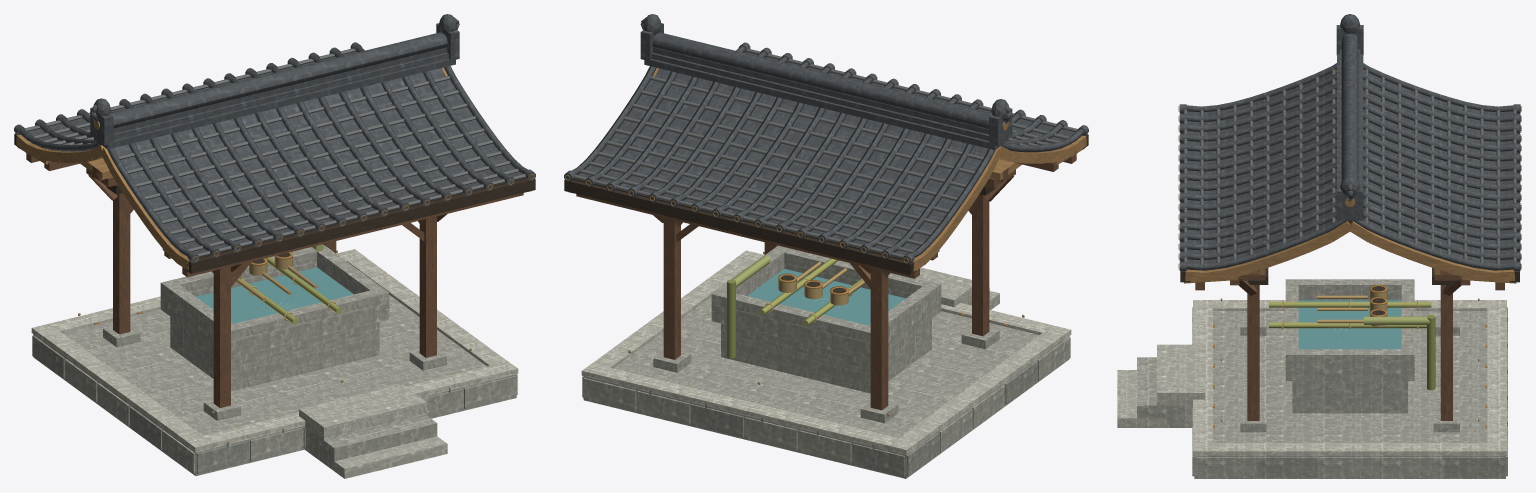
File: shrine_temizu-exterior-refined-v1.glb
3 views of the same model, side by side, from view 1: azimuth 30°, elevation 25°; view 2: azimuth 150°, elevation 25°; view 3: azimuth 270°, elevation 25° (orthographic). The views are drawn at different scales.
Visible parts, largest first — view 1: shrine_temizu_01_原有建筑轮廓与构件_EX_a4a49a_dark_rock_surface, shrine_temizu_01_原有建筑轮廓与构件_EX_50565a_dark_rock_surface, shrine_temizu_02_屋顶瓦作_EX_50565a_dark_rock_surface, shrine_temizu_01_原有建筑轮廓与构件_EX_6d7070_plain_surface, shrine_temizu_01_原有建筑轮廓与构件_EX_bebdaf_dark_rock_surface, shrine_temizu_01_原有建筑轮廓与构件_EX_71533d_fine_grained_wood_surfa, shrine_temizu_01_原有建筑轮廓与构件_EX_b5b5a9_dark_rock_surface, shrine_temizu_01_原有建筑轮廓与构件_EX_41362b_fine_grained_wood_surfa, shrine_temizu_01_原有建筑轮廓与构件_EX_699ea0_plain_surface, shrine_temizu_01_原有建筑轮廓与构件_EX_a17c51_fine_grained_wood_surfa, shrine_temizu_01_原有建筑轮廓与构件_EX_92968b_dark_rock_surface, shrine_temizu_01_原有建筑轮廓与构件_EX_a7aa63_plain_surface (+2 smaller); view 2: shrine_temizu_01_原有建筑轮廓与构件_EX_a4a49a_dark_rock_surface, shrine_temizu_01_原有建筑轮廓与构件_EX_50565a_dark_rock_surface, shrine_temizu_02_屋顶瓦作_EX_50565a_dark_rock_surface, shrine_temizu_01_原有建筑轮廓与构件_EX_6d7070_plain_surface, shrine_temizu_01_原有建筑轮廓与构件_EX_bebdaf_dark_rock_surface, shrine_temizu_01_原有建筑轮廓与构件_EX_71533d_fine_grained_wood_surfa, shrine_temizu_01_原有建筑轮廓与构件_EX_41362b_fine_grained_wood_surfa, shrine_temizu_01_原有建筑轮廓与构件_EX_92968b_dark_rock_surface, shrine_temizu_01_原有建筑轮廓与构件_EX_a17c51_fine_grained_wood_surfa, shrine_temizu_01_原有建筑轮廓与构件_EX_699ea0_plain_surface, shrine_temizu_01_原有建筑轮廓与构件_EX_b5b5a9_dark_rock_surface, shrine_temizu_01_原有建筑轮廓与构件_EX_b39967_plain_surface (+3 smaller); view 3: shrine_temizu_01_原有建筑轮廓与构件_EX_50565a_dark_rock_surface, shrine_temizu_01_原有建筑轮廓与构件_EX_a4a49a_dark_rock_surface, shrine_temizu_02_屋顶瓦作_EX_50565a_dark_rock_surface, shrine_temizu_01_原有建筑轮廓与构件_EX_bebdaf_dark_rock_surface, shrine_temizu_01_原有建筑轮廓与构件_EX_6d7070_plain_surface, shrine_temizu_01_原有建筑轮廓与构件_EX_b5b5a9_dark_rock_surface, shrine_temizu_01_原有建筑轮廓与构件_EX_a17c51_fine_grained_wood_surfa, shrine_temizu_01_原有建筑轮廓与构件_EX_71533d_fine_grained_wood_surfa, shrine_temizu_01_原有建筑轮廓与构件_EX_699ea0_plain_surface, shrine_temizu_01_原有建筑轮廓与构件_EX_92968b_dark_rock_surface, shrine_temizu_01_原有建筑轮廓与构件_EX_a7aa63_plain_surface, shrine_temizu_01_原有建筑轮廓与构件_EX_41362b_fine_grained_wood_surfa (+4 smaller).
Boxes of the visible parts, x1=… form: shrine_temizu_01_原有建筑轮廓与构件_EX_a4a49a_dark_rock_surface: x1=33, y1=244, x2=517, y2=475; shrine_temizu_01_原有建筑轮廓与构件_EX_50565a_dark_rock_surface: x1=14, y1=23, x2=535, y2=262; shrine_temizu_02_屋顶瓦作_EX_50565a_dark_rock_surface: x1=28, y1=51, x2=522, y2=253; shrine_temizu_01_原有建筑轮廓与构件_EX_6d7070_plain_surface: x1=25, y1=48, x2=525, y2=257; shrine_temizu_01_原有建筑轮廓与构件_EX_bebdaf_dark_rock_surface: x1=31, y1=249, x2=518, y2=452; shrine_temizu_01_原有建筑轮廓与构件_EX_71533d_fine_grained_wood_surfa: x1=26, y1=153, x2=523, y2=407; shrine_temizu_01_原有建筑轮廓与构件_EX_b5b5a9_dark_rock_surface: x1=299, y1=384, x2=447, y2=478; shrine_temizu_01_原有建筑轮廓与构件_EX_41362b_fine_grained_wood_surfa: x1=14, y1=133, x2=535, y2=273; shrine_temizu_01_原有建筑轮廓与构件_EX_699ea0_plain_surface: x1=196, y1=267, x2=353, y2=323; shrine_temizu_01_原有建筑轮廓与构件_EX_a17c51_fine_grained_wood_surfa: x1=16, y1=67, x2=531, y2=273; shrine_temizu_01_原有建筑轮廓与构件_EX_92968b_dark_rock_surface: x1=32, y1=335, x2=249, y2=474; shrine_temizu_01_原有建筑轮廓与构件_EX_a7aa63_plain_surface: x1=236, y1=257, x2=341, y2=324; shrine_temizu_01_原有建筑轮廓与构件_EX_a4a49a_dark_rock_surface: x1=583, y1=245, x2=1070, y2=478; shrine_temizu_01_原有建筑轮廓与构件_EX_50565a_dark_rock_surface: x1=564, y1=23, x2=1088, y2=264; shrine_temizu_02_屋顶瓦作_EX_50565a_dark_rock_surface: x1=577, y1=52, x2=1074, y2=254; shrine_temizu_01_原有建筑轮廓与构件_EX_6d7070_plain_surface: x1=574, y1=48, x2=1077, y2=258; shrine_temizu_01_原有建筑轮廓与构件_EX_bebdaf_dark_rock_surface: x1=581, y1=250, x2=1071, y2=454; shrine_temizu_01_原有建筑轮廓与构件_EX_71533d_fine_grained_wood_surfa: x1=576, y1=154, x2=1076, y2=410; shrine_temizu_01_原有建筑轮廓与构件_EX_41362b_fine_grained_wood_surfa: x1=564, y1=134, x2=1088, y2=293; shrine_temizu_01_原有建筑轮廓与构件_EX_92968b_dark_rock_surface: x1=582, y1=336, x2=1069, y2=476; shrine_temizu_01_原有建筑轮廓与构件_EX_a17c51_fine_grained_wood_surfa: x1=568, y1=68, x2=1086, y2=275; shrine_temizu_01_原有建筑轮廓与构件_EX_699ea0_plain_surface: x1=747, y1=268, x2=905, y2=325; shrine_temizu_01_原有建筑轮廓与构件_EX_b5b5a9_dark_rock_surface: x1=916, y1=267, x2=999, y2=309; shrine_temizu_01_原有建筑轮廓与构件_EX_b39967_plain_surface: x1=778, y1=261, x2=865, y2=305; shrine_temizu_01_原有建筑轮廓与构件_EX_50565a_dark_rock_surface: x1=1179, y1=25, x2=1520, y2=270; shrine_temizu_01_原有建筑轮廓与构件_EX_a4a49a_dark_rock_surface: x1=1137, y1=279, x2=1507, y2=478; shrine_temizu_02_屋顶瓦作_EX_50565a_dark_rock_surface: x1=1187, y1=71, x2=1512, y2=263; shrine_temizu_01_原有建筑轮廓与构件_EX_bebdaf_dark_rock_surface: x1=1193, y1=300, x2=1506, y2=455; shrine_temizu_01_原有建筑轮廓与构件_EX_6d7070_plain_surface: x1=1183, y1=69, x2=1516, y2=264; shrine_temizu_01_原有建筑轮廓与构件_EX_b5b5a9_dark_rock_surface: x1=1117, y1=344, x2=1205, y2=427; shrine_temizu_01_原有建筑轮廓与构件_EX_a17c51_fine_grained_wood_surfa: x1=1184, y1=70, x2=1516, y2=283; shrine_temizu_01_原有建筑轮廓与构件_EX_71533d_fine_grained_wood_surfa: x1=1195, y1=268, x2=1504, y2=420; shrine_temizu_01_原有建筑轮廓与构件_EX_699ea0_plain_surface: x1=1298, y1=300, x2=1401, y2=349; shrine_temizu_01_原有建筑轮廓与构件_EX_92968b_dark_rock_surface: x1=1192, y1=307, x2=1507, y2=477; shrine_temizu_01_原有建筑轮廓与构件_EX_a7aa63_plain_surface: x1=1269, y1=302, x2=1431, y2=328; shrine_temizu_01_原有建筑轮廓与构件_EX_41362b_fine_grained_wood_surfa: x1=1180, y1=113, x2=1519, y2=315.
Size of the model in its own units: 9.3 by 7.75 by 9.2.
Materials: 19 (11 with a texture image).
